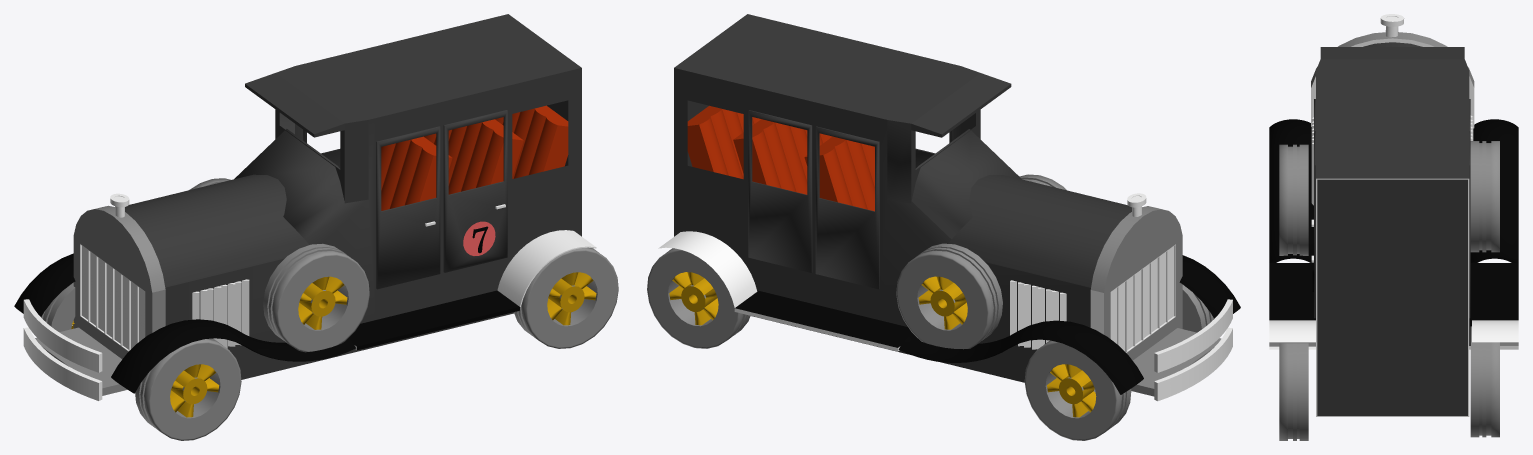
Rendered from vintage car.fbx.
3 renders of one model, left to right at view 1: azimuth 30°, elevation 25°; view 2: azimuth 150°, elevation 25°; view 3: azimuth 270°, elevation 25°, orthographic. The views are drawn at different scales.
Parts seen in each view (by area): view 1: Layer0_001, Group_008, Group_001, Group_007, Group_002, Group_005, Group_004, Group_006, Group_003, Group_010; view 2: Layer0_001, Group_011, Group_010, Group_009, Group_003, Group_005, Group_004, Group_006, Group_002, Group_001; view 3: Layer0_001, Group_003, Group_011, Group_008, Group_002, Group_007, Group_009.
Boxes of the visible parts, box(x1,y1,x2,y2) form: Layer0_001: box(23, 14, 596, 400); Group_008: box(263, 243, 369, 352); Group_001: box(135, 338, 241, 440); Group_007: box(514, 247, 618, 348); Group_002: box(111, 319, 355, 393); Group_005: box(424, 119, 523, 194); Group_004: box(381, 136, 452, 210); Group_006: box(495, 105, 568, 178); Group_003: box(14, 253, 75, 316); Group_010: box(41, 282, 75, 331); Layer0_001: box(658, 14, 1232, 401); Group_011: box(896, 243, 1002, 349); Group_010: box(1024, 340, 1131, 440); Group_009: box(647, 248, 750, 348); Group_003: box(898, 320, 1143, 394); Group_005: box(733, 119, 832, 194); Group_004: box(804, 136, 874, 211); Group_006: box(687, 105, 760, 179); Group_002: box(1179, 255, 1240, 318); Group_001: box(1182, 285, 1213, 332); Layer0_001: box(1269, 14, 1518, 416); Group_003: box(1470, 119, 1518, 262); Group_011: box(1470, 141, 1499, 252); Group_008: box(1279, 144, 1308, 255); Group_002: box(1269, 119, 1313, 262); Group_007: box(1279, 343, 1308, 440); Group_009: box(1470, 326, 1499, 437).
Bounding box in the file's own units: 10.52 × 5.08 × 4.24.
